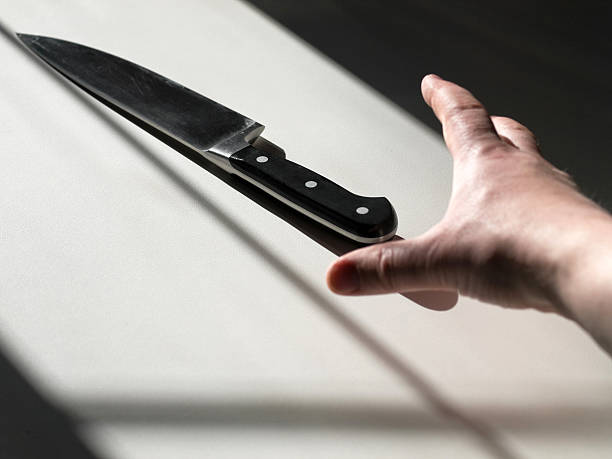knife: (11, 31, 400, 246)
